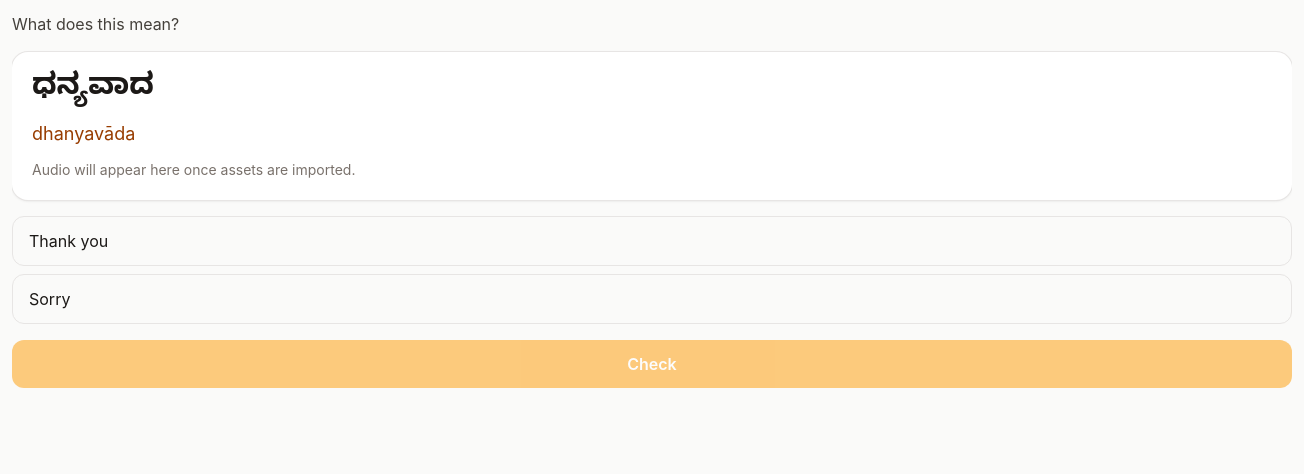
Test case: ExerciseRenderer submit slot › replaces Check with Continue after the answer is checked
Later steps or results of the test are not shown.
Expected: the button "Continue" is not shown
Click the button "Thank you" at (69, 241), box [12, 216, 1292, 266]
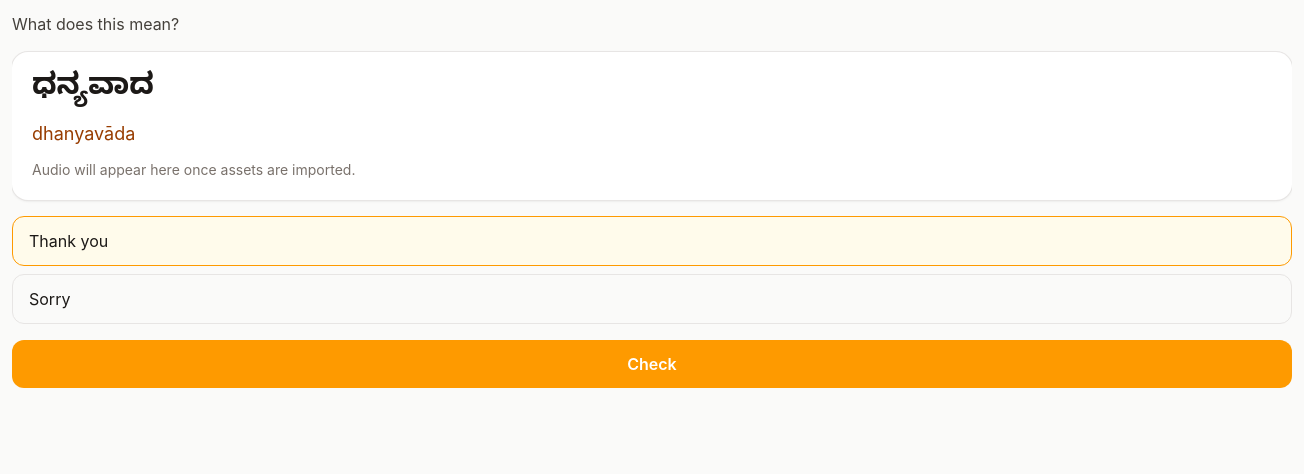
Click the button "Check" at (652, 364), box [12, 340, 1292, 388]
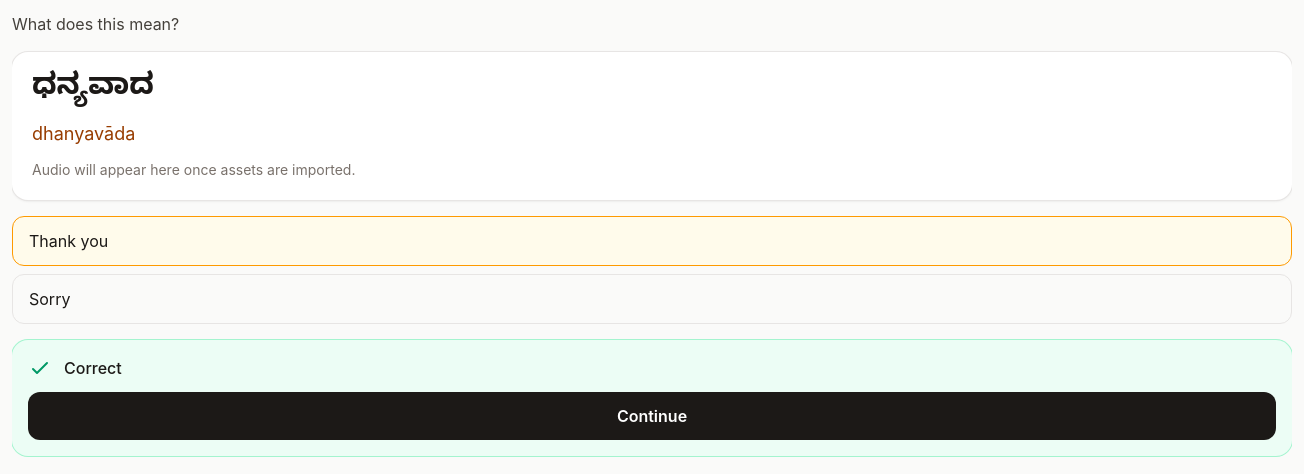
Now the button "Check" is gone
Now the text "Correct" is shown, box [64, 356, 122, 380]
